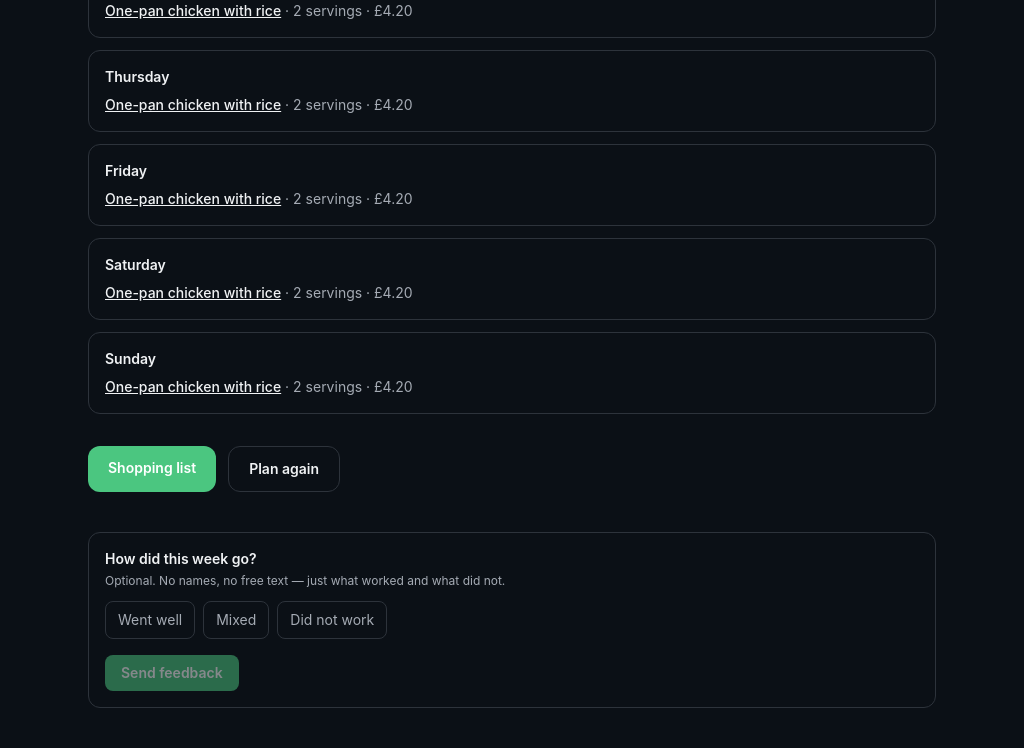
it: end-of-week feedback › reports a failed submission without implying the plan is affected
This screenshot has width=1024, height=748.
(page scrolled)
What coordinates should you click on to do the following:
click the radio button labelled "Mixed"
I would click on:
 (236, 620)
Its box is [203, 601, 269, 639].
(page scrolled)
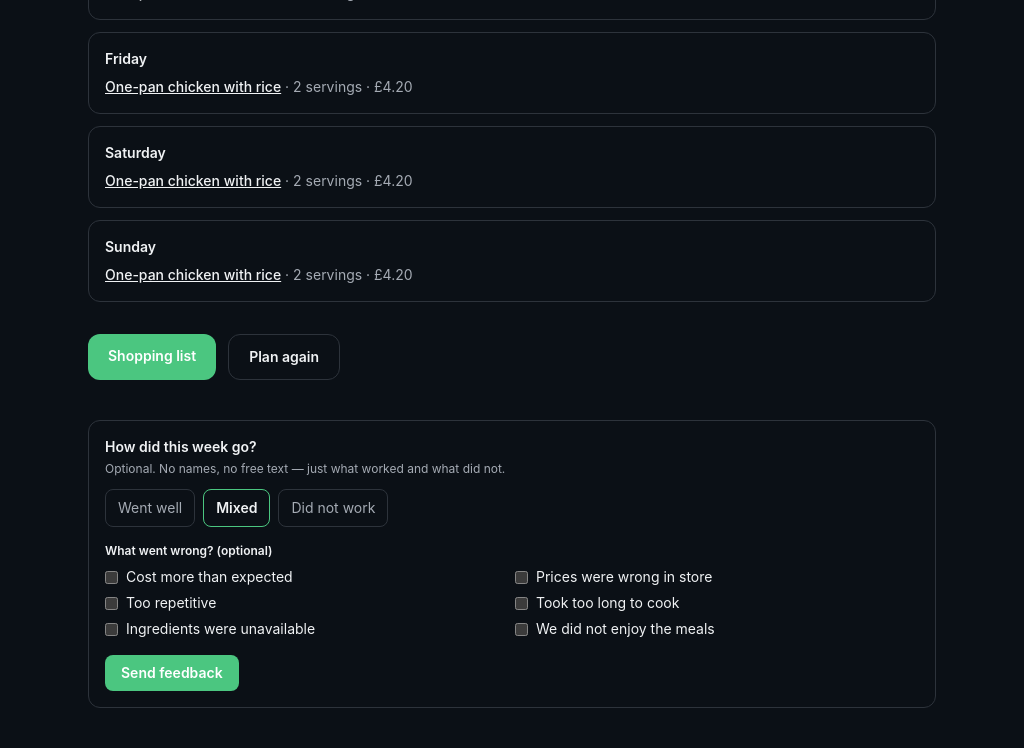
What coordinates should you click on to do the following:
click the button "Send feedback"
I would click on:
 (172, 673)
Its box is [105, 655, 239, 691].
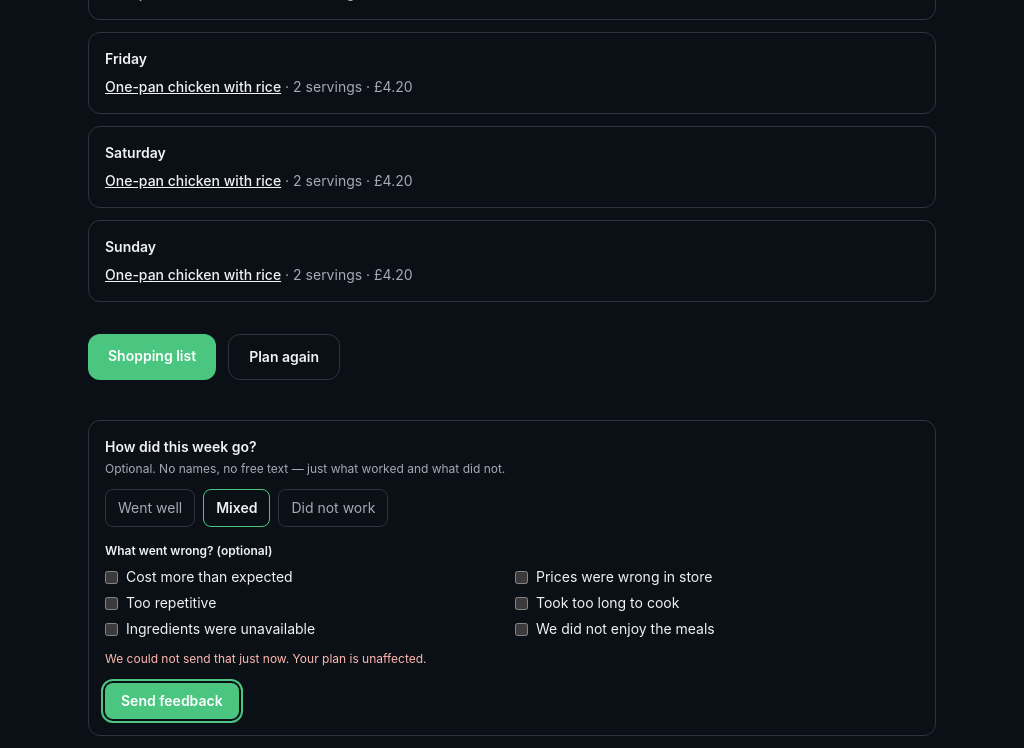
Expected: the message shows "plan is unaffected", [105, 651, 427, 666]
